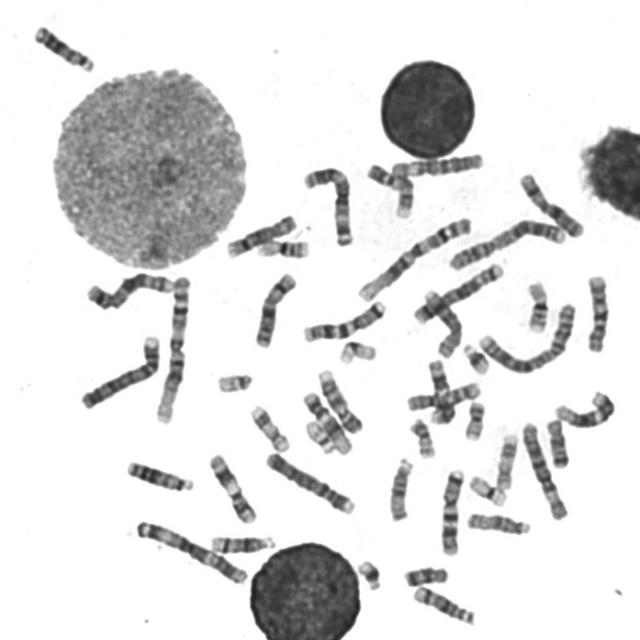A1: (352, 212, 474, 304), (150, 270, 193, 426)
A2: (475, 296, 579, 376), (444, 214, 568, 272)
A3: (130, 515, 251, 586), (298, 161, 356, 248)
B4: (76, 330, 162, 411), (261, 447, 358, 516)
B5: (408, 256, 508, 325), (82, 268, 176, 312)
C10: (403, 377, 484, 413), (582, 269, 613, 354)
C11: (205, 448, 259, 526), (423, 355, 458, 426)
C12: (300, 386, 354, 457), (551, 386, 618, 430)
C6: (517, 416, 572, 522), (386, 149, 486, 178)
C7: (298, 295, 389, 344), (437, 463, 468, 558)
C8: (222, 209, 300, 260), (420, 284, 464, 360)
C9: (313, 364, 365, 435), (363, 158, 417, 220)
D13: (29, 20, 98, 74), (122, 455, 197, 493)
D14: (408, 581, 478, 627), (206, 530, 277, 554)
D15: (385, 452, 416, 524), (463, 507, 534, 537)
E16: (520, 275, 552, 334), (253, 234, 312, 260)
E17: (246, 400, 292, 454), (491, 428, 521, 493)
E18: (542, 414, 572, 470), (399, 562, 451, 588)
F19: (464, 471, 510, 508), (335, 336, 379, 367)
F20: (406, 414, 438, 460), (460, 397, 489, 443)
G21: (458, 338, 492, 376), (353, 556, 384, 592)
G22: (301, 415, 338, 455), (212, 368, 255, 394)
X: (515, 167, 588, 240), (250, 268, 299, 349)
